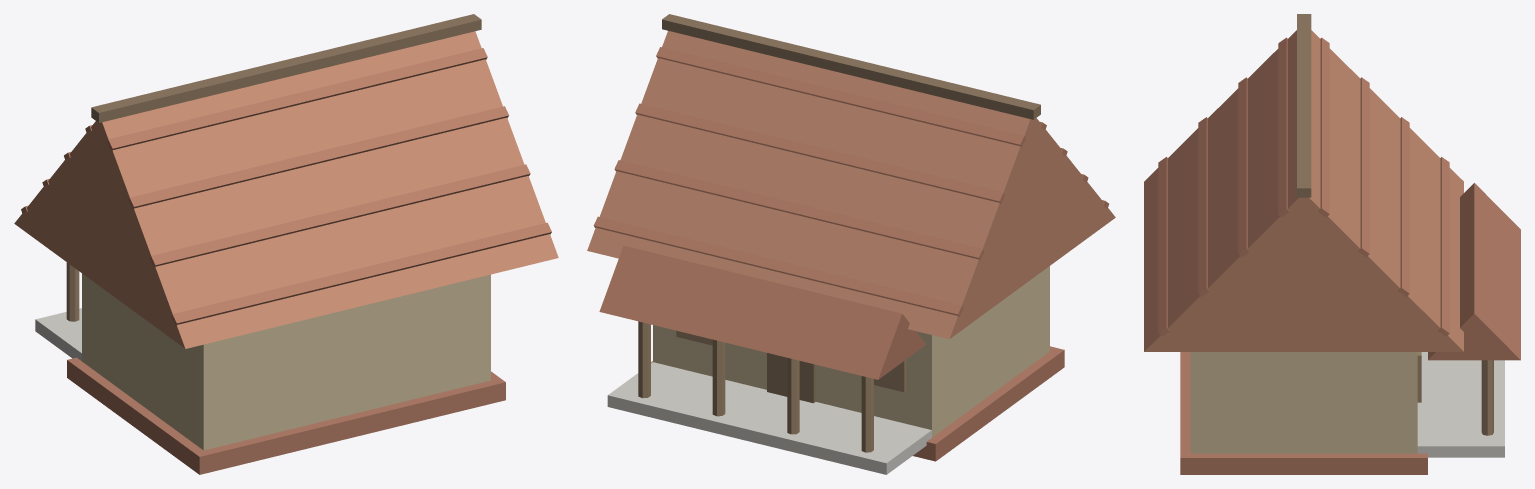
File: kerala_house.glb
3 renders of one model, left to right at view 1: azimuth 30°, elevation 25°; view 2: azimuth 150°, elevation 25°; view 3: azimuth 270°, elevation 25°, orthographic. The views are drawn at different scales.
Visible parts, largest first — view 1: geometry_0; view 2: geometry_0; view 3: geometry_0.
Boxes of the visible parts, x1,y1,x2,y2 form: geometry_0: [14, 14, 558, 474]; geometry_0: [587, 14, 1115, 474]; geometry_0: [1144, 14, 1520, 474].
Bounding box in the file's own units: 4 × 3.25 × 3.65.
